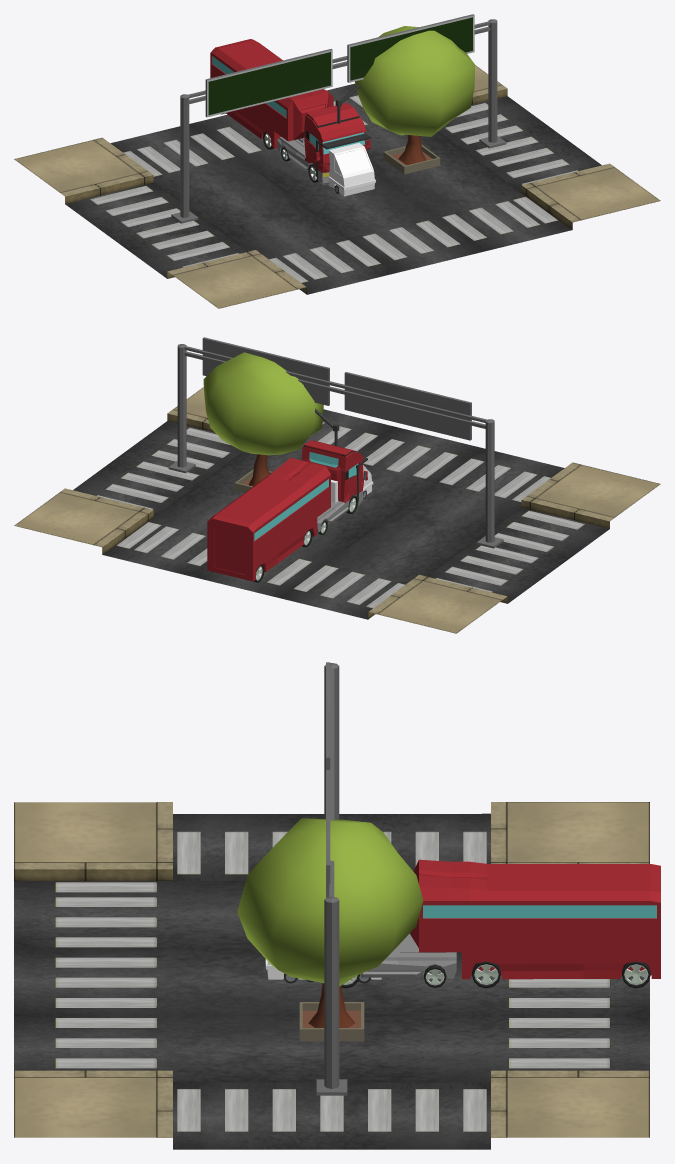
The model's file is TI2Assets.fbx.
3 renders of one model, top to bottom at view 1: azimuth 30°, elevation 25°; view 2: azimuth 150°, elevation 25°; view 3: azimuth 270°, elevation 25°, orthographic. The views are drawn at different scales.
Visible parts, largest first — view 1: Intersection, PlacaTransito, Oaktree, Truck, Van; view 2: Intersection, Truck, PlacaTransito, Oaktree; view 3: Intersection, Truck, Oaktree, PlacaTransito.
Part boxes in pixels (x1=…): Intersection: x1=14, y1=65, x2=660, y2=308; PlacaTransito: x1=171, y1=14, x2=506, y2=223; Oaktree: x1=355, y1=26, x2=475, y2=174; Truck: x1=210, y1=39, x2=370, y2=185; Van: x1=328, y1=143, x2=375, y2=196; Intersection: x1=14, y1=387, x2=660, y2=633; Truck: x1=207, y1=440, x2=367, y2=582; PlacaTransito: x1=168, y1=337, x2=503, y2=548; Oaktree: x1=203, y1=352, x2=323, y2=492; Intersection: x1=14, y1=802, x2=649, y2=1149; Truck: x1=316, y1=859, x2=660, y2=988; Oaktree: x1=237, y1=818, x2=423, y2=1041; PlacaTransito: x1=316, y1=662, x2=347, y2=1095.
Bounding box in the file's own units: 2500 × 760 × 2036.
